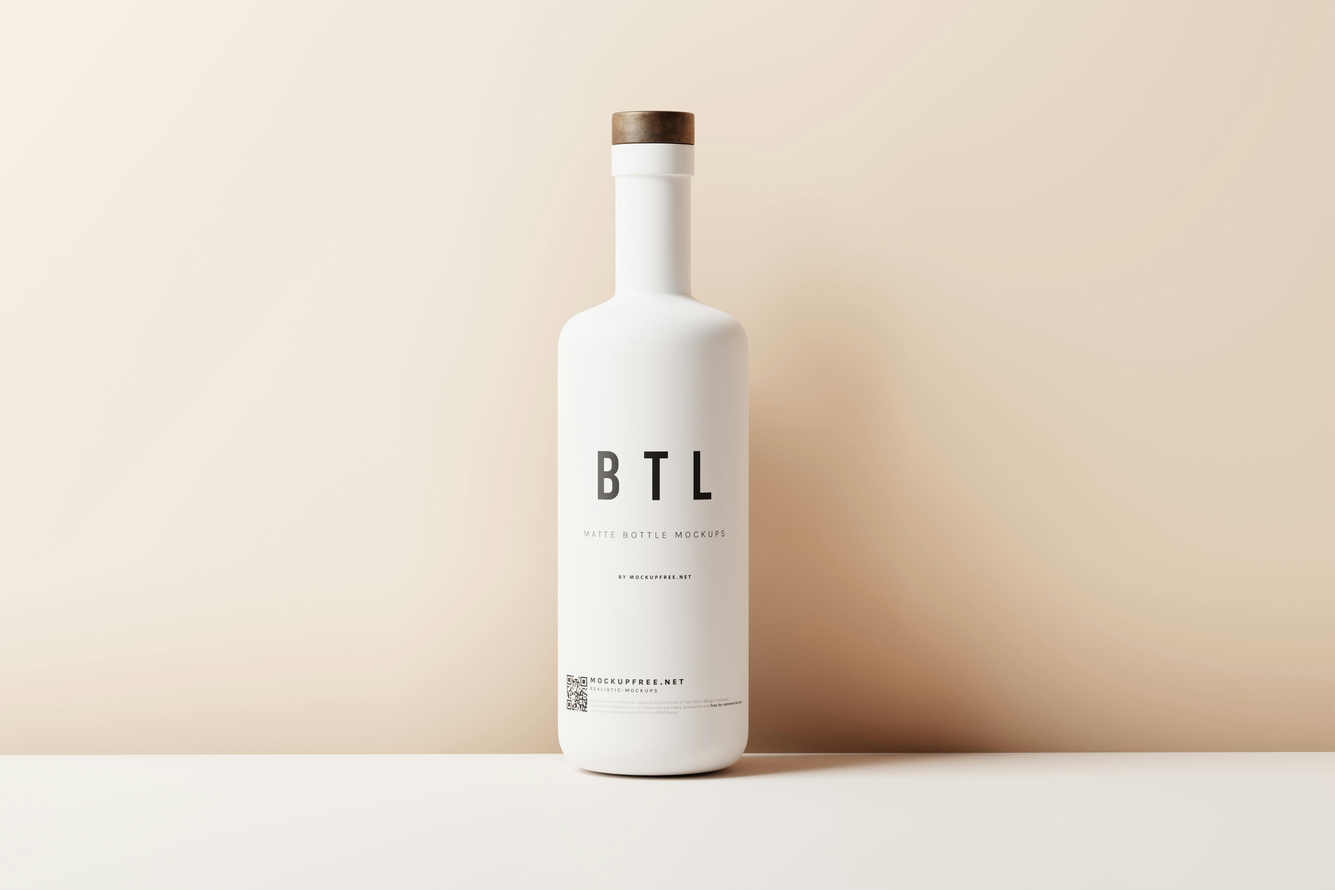Bottle-Detection: (452, 59, 868, 836)
